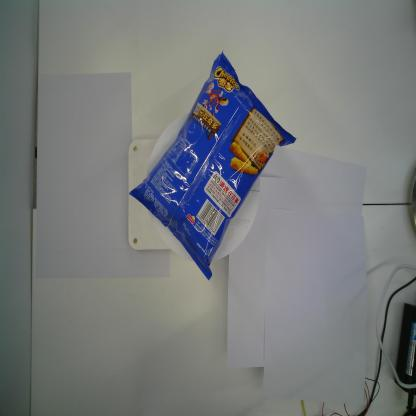Puffed Food: (126, 48, 299, 284)
